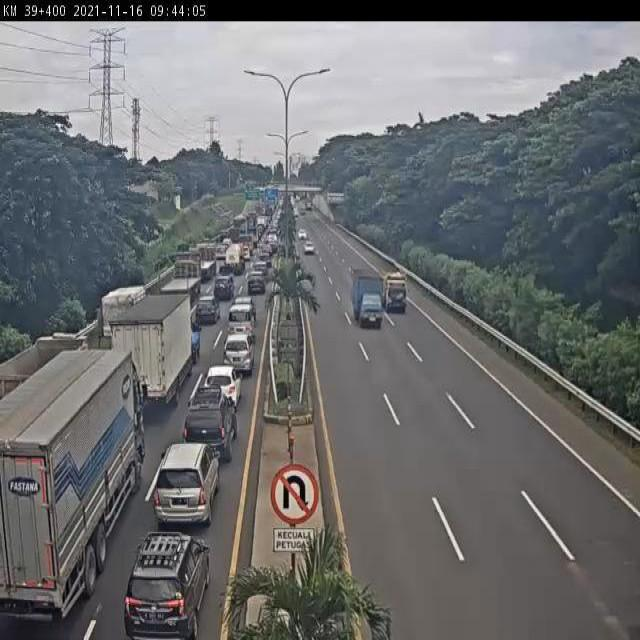car: (124, 534, 210, 640), (150, 440, 221, 527), (182, 384, 240, 464), (205, 360, 245, 413), (224, 328, 256, 377), (233, 297, 258, 336), (229, 307, 255, 344), (194, 298, 217, 338), (208, 274, 229, 314), (243, 275, 265, 312)
small truck: (381, 265, 407, 315)
truck-l-: (0, 348, 150, 623), (150, 256, 194, 324), (182, 246, 212, 290)
truck-m-: (111, 292, 196, 408), (354, 268, 387, 331)
